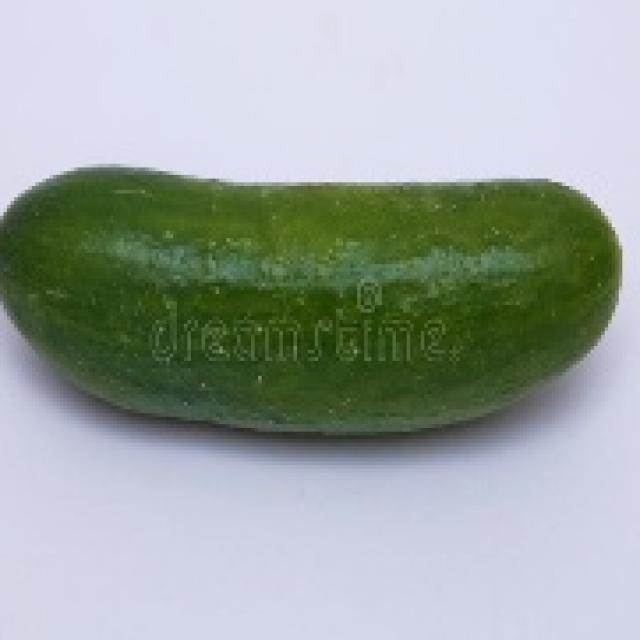cucumber: (0, 156, 612, 439)
